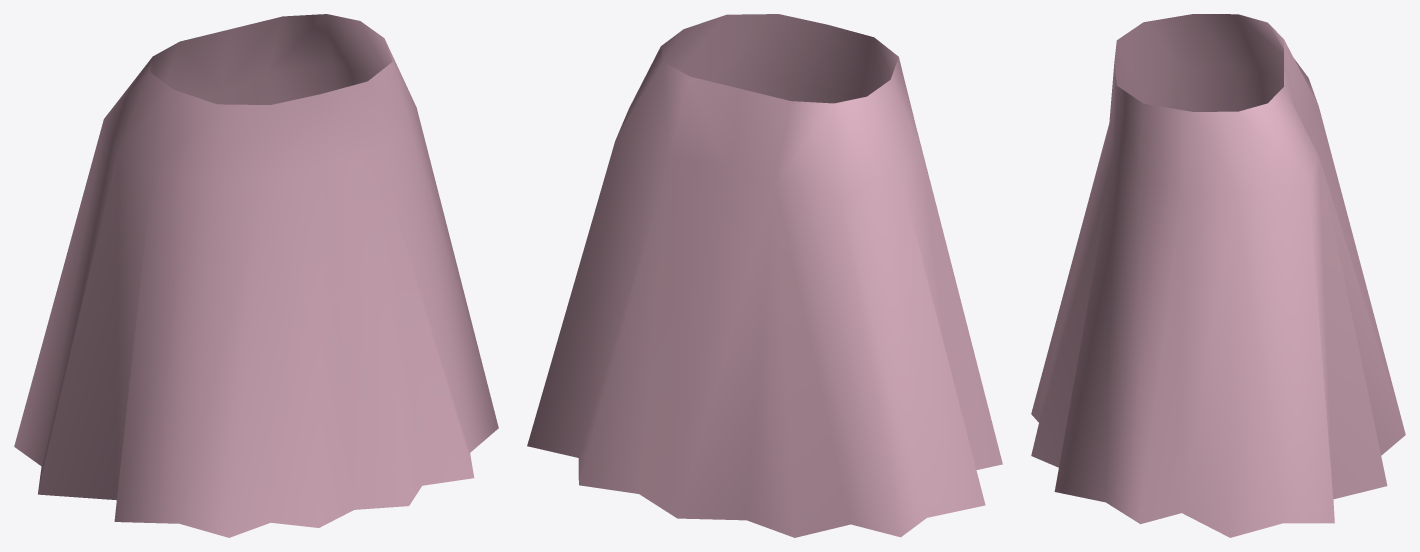
Rendered from Skirt_short.glb.
3 renders of one model, left to right at view 1: azimuth 30°, elevation 25°; view 2: azimuth 150°, elevation 25°; view 3: azimuth 270°, elevation 25°, orthographic. The views are drawn at different scales.
Visible parts, largest first — view 1: Skirt; view 2: Skirt; view 3: Skirt.
Boxes of the visible parts, <box> form: Skirt: <box>14,14,498,537</box>; Skirt: <box>527,14,1002,537</box>; Skirt: <box>1031,14,1405,537</box>.
Size of the model in its own units: 0.4996 by 0.4209 by 0.3841.
